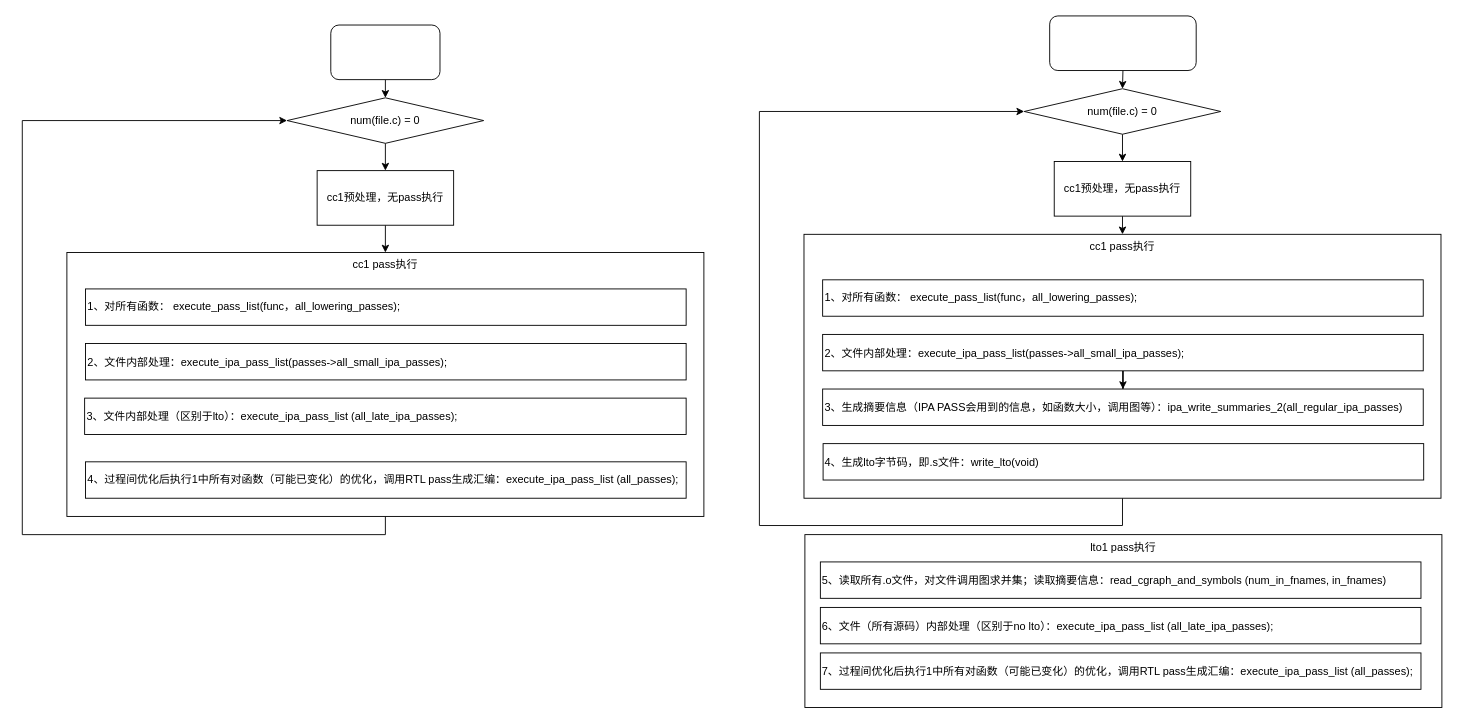
This 1458x723 diagram has some shape labels left out. Here are the shapes that lost their labels. From the top down, the centre of each, then its label:
At pixel 385 52: "开始(no lto)".
At pixel 1122 43: "开始(lto partition=none)".
